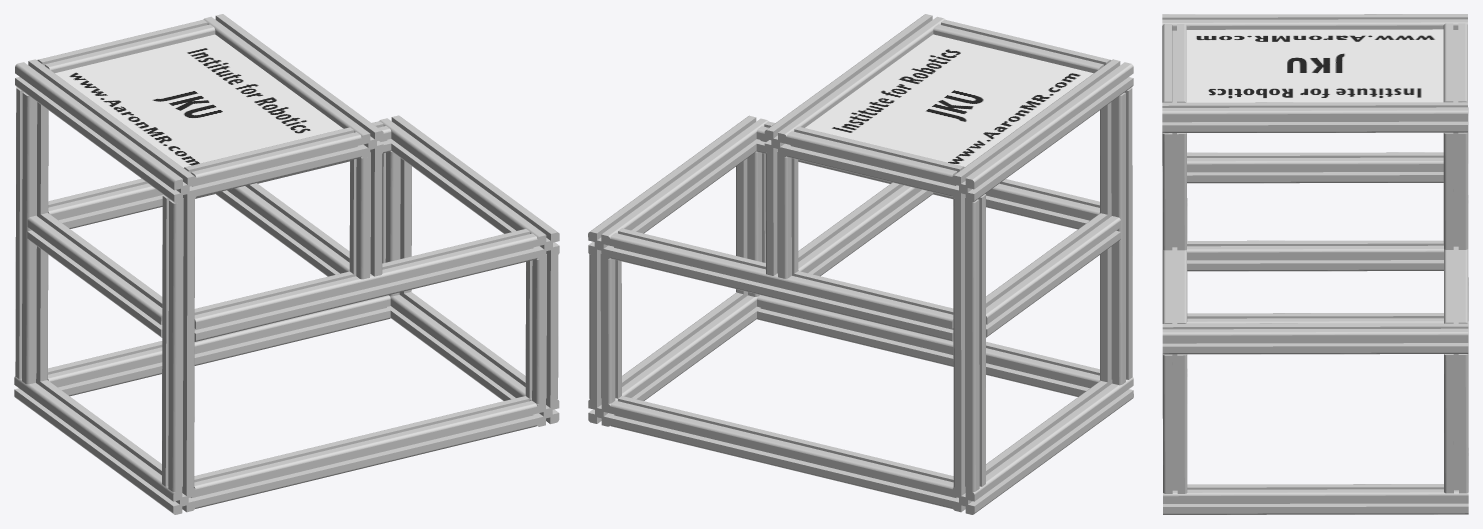
Rendered from bot_body.dae.
3 views of the same model, side by side, from view 1: azimuth 30°, elevation 25°; view 2: azimuth 150°, elevation 25°; view 3: azimuth 270°, elevation 25° (orthographic). The views are drawn at different scales.
Parts seen in each view (by area): view 1: SketchUp (×2); view 2: SketchUp (×2); view 3: SketchUp (×2).
Part boxes in pixels (bbox=[...]): SketchUp (×2): bbox=[14, 14, 559, 514]; SketchUp (×2): bbox=[588, 14, 1133, 514]; SketchUp (×2): bbox=[1162, 14, 1468, 514].
Size of the model in its own units: 27.58 by 19.73 by 22.91.
Materials: 2 (1 with a texture image).
